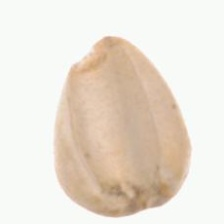L1: (67, 33, 120, 68), (115, 184, 172, 215)
L2: (53, 35, 191, 217)
